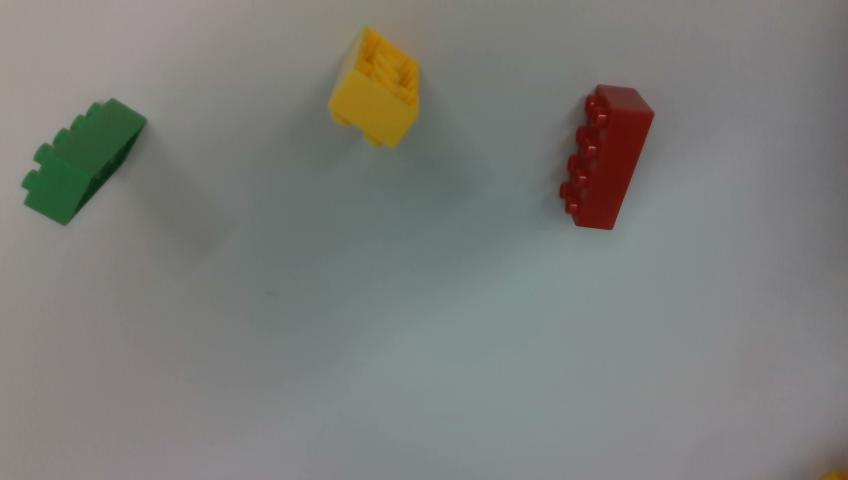4x2_green: (21, 100, 146, 225)
4x2_red: (560, 85, 653, 227)
4x2_yellow: (328, 26, 418, 147)
